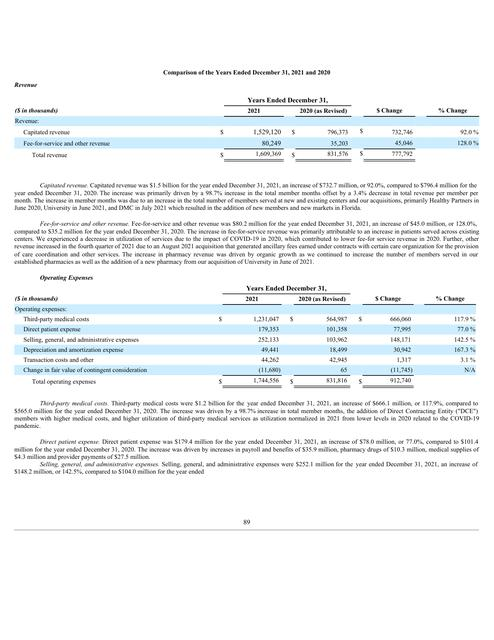box: (11, 284, 479, 392), (11, 96, 482, 166)
